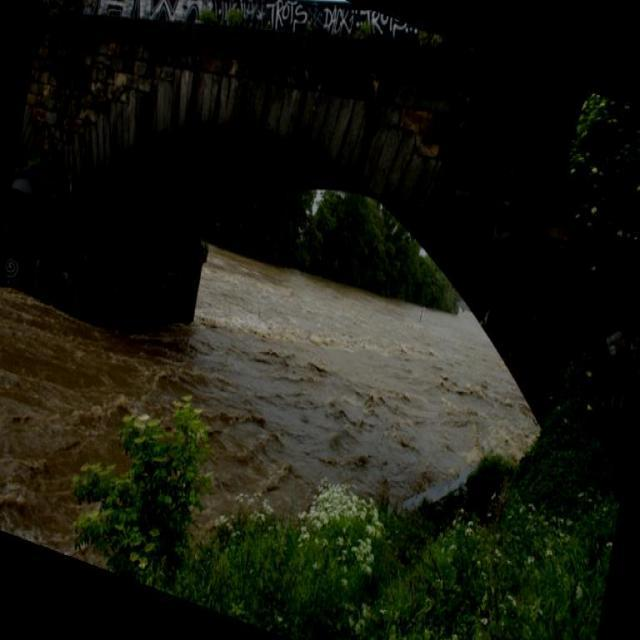flood: (0, 145, 552, 639)
